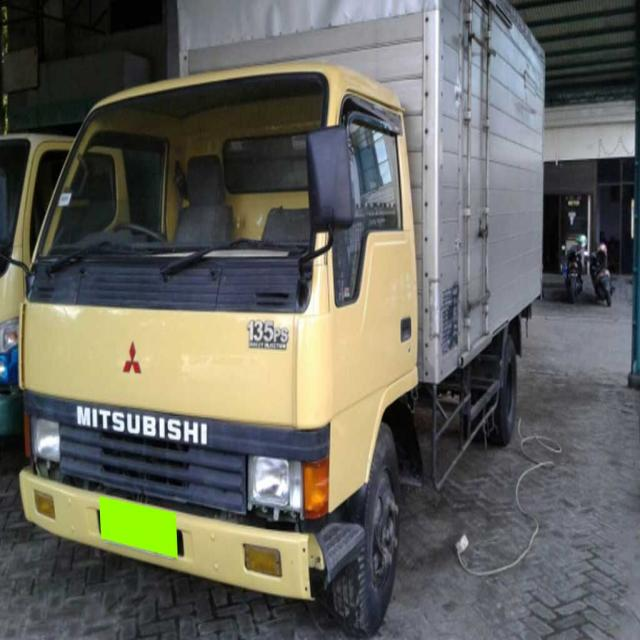truck: (11, 0, 546, 625)
